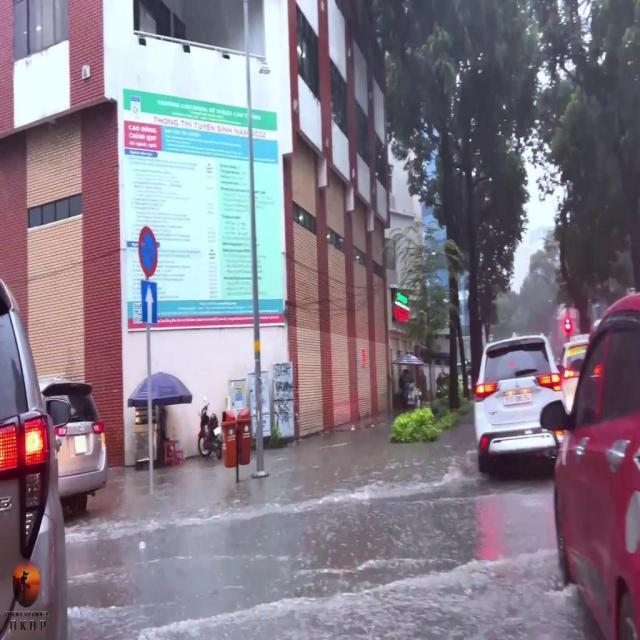131a-cam-do-xe: (138, 224, 158, 276)
407a-duong-mot-chieu: (142, 280, 158, 324)
